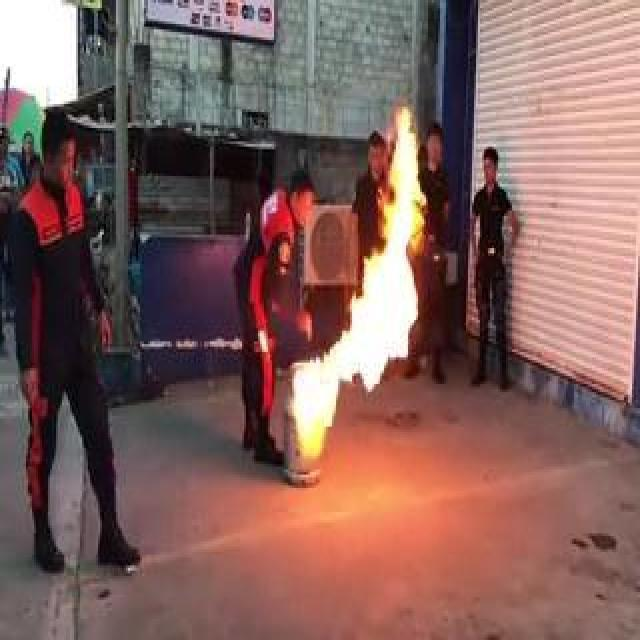Fire: (293, 106, 425, 454)
